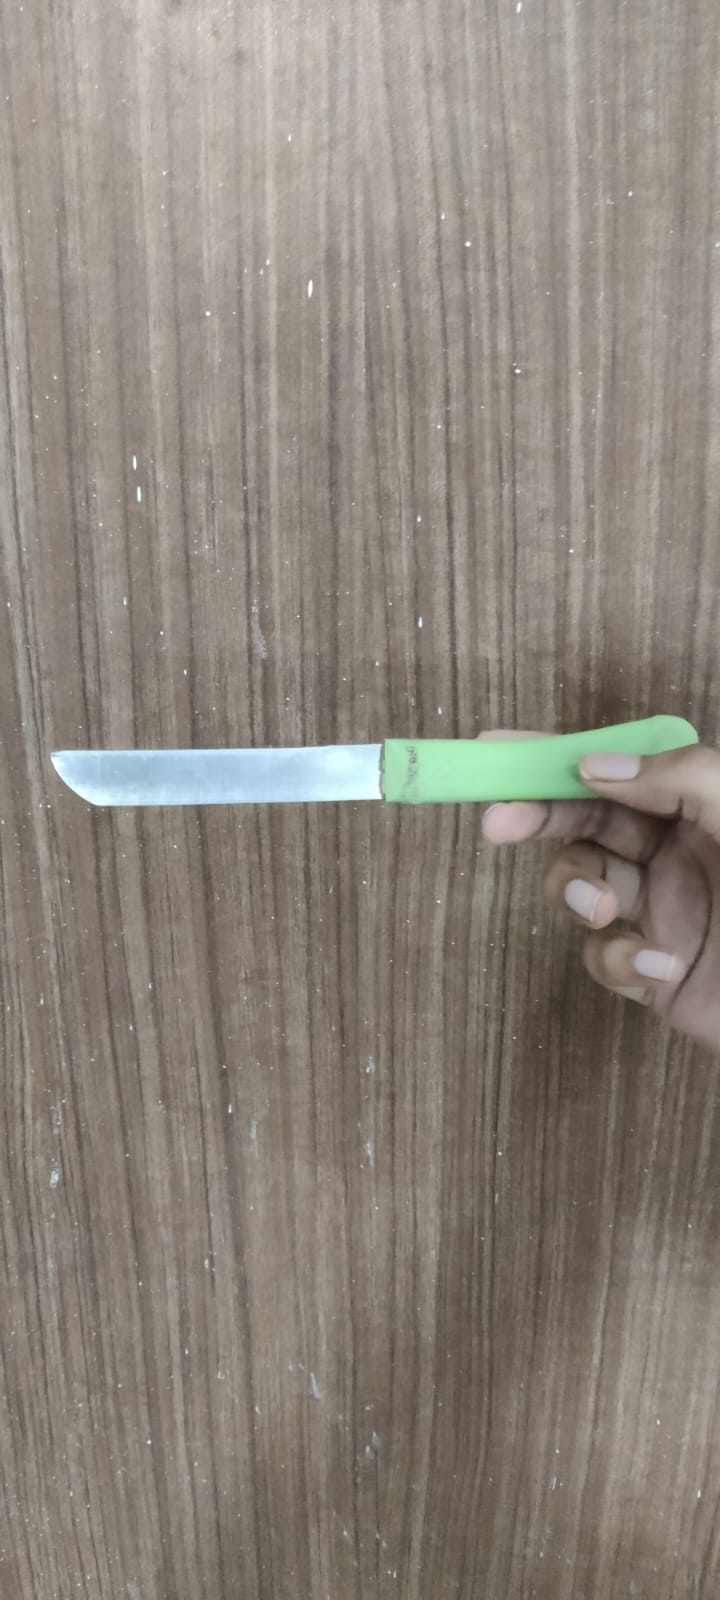knife: (43, 710, 691, 811)
